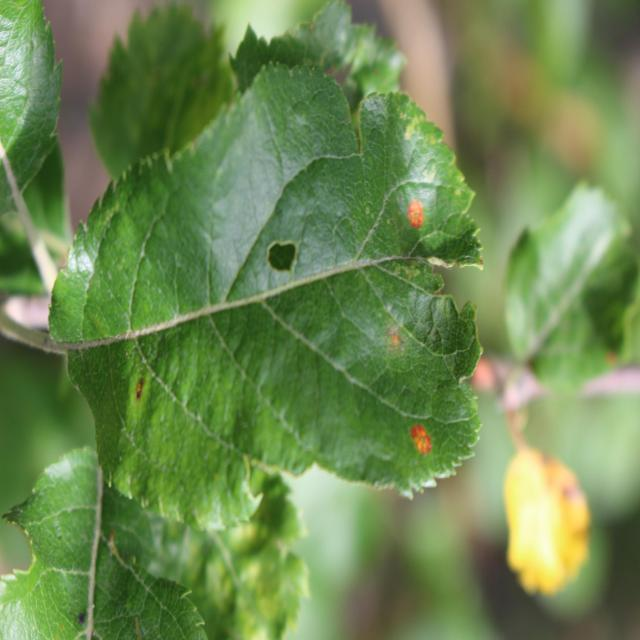Rust: (375, 298, 412, 369), (394, 416, 441, 464), (402, 194, 430, 242), (132, 360, 153, 417)
